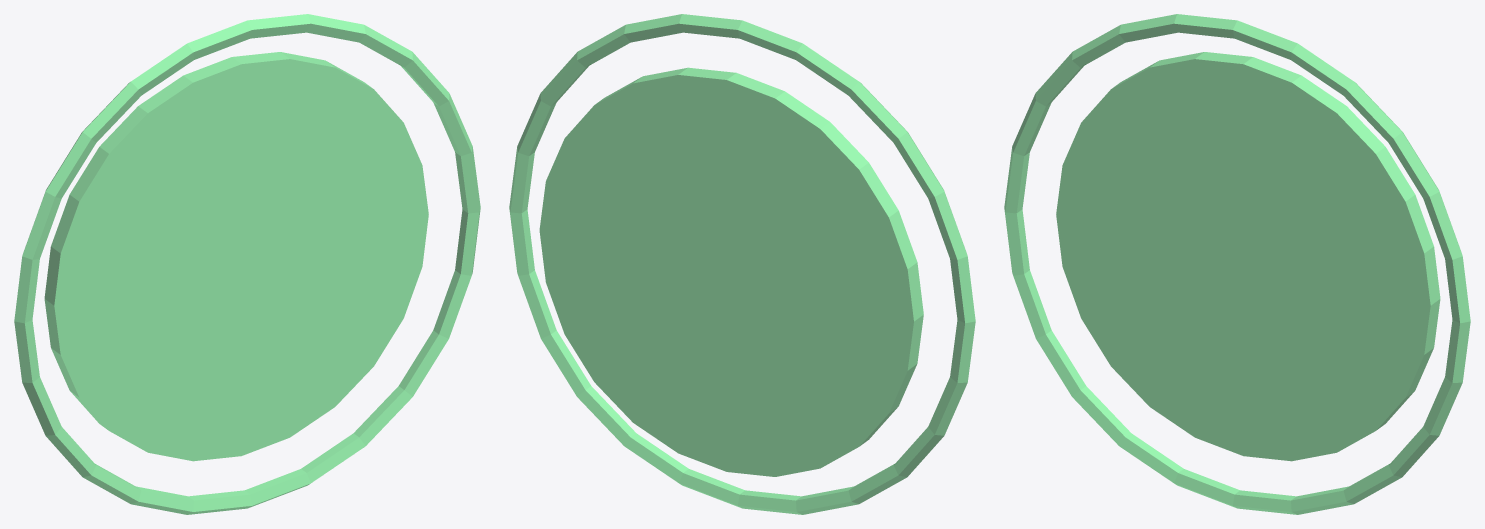
Rendered from rarity_base_uncommon.glb.
3 renders of one model, left to right at view 1: azimuth 30°, elevation 25°; view 2: azimuth 150°, elevation 25°; view 3: azimuth 330°, elevation 25°, orthographic.
Parts seen in each view (by area): view 1: base_disc, outer_ring; view 2: base_disc, outer_ring; view 3: base_disc, outer_ring.
Part boxes in pixels (x1,y1,x2,y2): base_disc: [44, 52, 428, 461]; outer_ring: [14, 14, 480, 514]; base_disc: [539, 67, 923, 476]; outer_ring: [509, 14, 975, 514]; base_disc: [1056, 52, 1440, 461]; outer_ring: [1004, 14, 1470, 514].
Size of the model in its own units: 1.37 by 1.37 by 0.1038.
